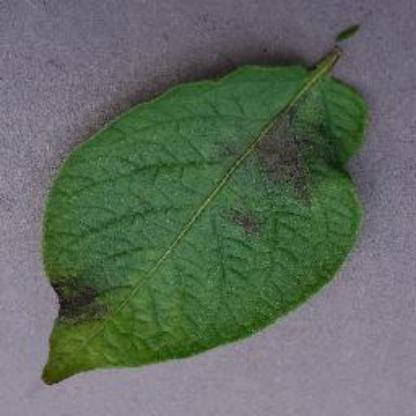Late-Blight: (43, 39, 379, 387)
